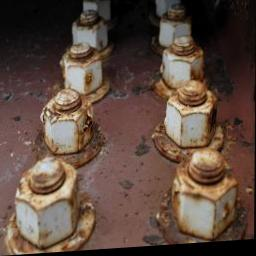Corroded-Nut-and-Bolt: (172, 150, 239, 244), (14, 157, 80, 250), (163, 83, 218, 152), (41, 90, 95, 157)
